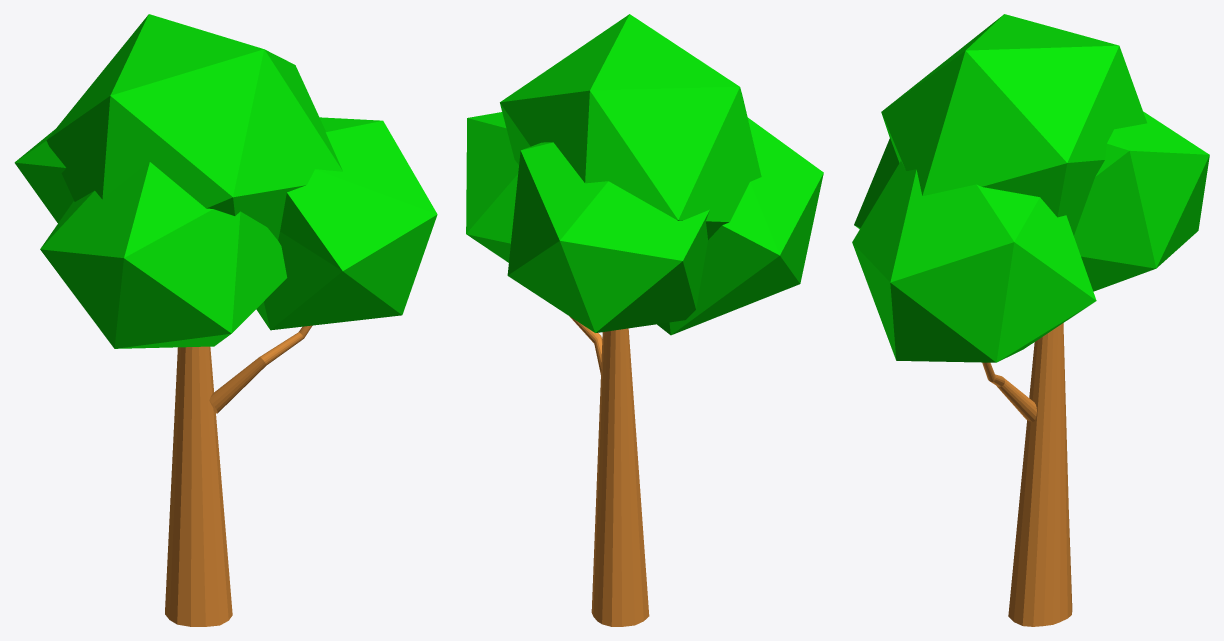
File: pohon2.4.fbx
3 renders of one model, left to right at view 1: azimuth 30°, elevation 25°; view 2: azimuth 150°, elevation 25°; view 3: azimuth 270°, elevation 25°, orthographic. The views are drawn at different scales.
Parts seen in each view (by area): view 1: Icosphere, Icosphere.003, Icosphere.002, Lingkaran, Icosphere.001, Lingkaran.001; view 2: Icosphere, Icosphere.001, Icosphere.003, Lingkaran, Icosphere.002; view 3: Icosphere, Icosphere.002, Icosphere.001, Lingkaran, Icosphere.003, Lingkaran.001.
Boxes of the visible parts, x1,y1,x2,y2 form: Icosphere: [46, 14, 342, 239]; Icosphere.003: [40, 162, 287, 348]; Icosphere.002: [256, 117, 437, 330]; Lingkaran: [165, 346, 232, 626]; Icosphere.001: [14, 129, 73, 222]; Lingkaran.001: [209, 325, 312, 413]; Icosphere: [500, 14, 761, 239]; Icosphere.001: [507, 142, 709, 332]; Icosphere.003: [657, 117, 823, 335]; Lingkaran: [591, 328, 649, 626]; Icosphere.002: [466, 112, 518, 262]; Icosphere: [881, 14, 1146, 235]; Icosphere.002: [852, 161, 1096, 362]; Icosphere.001: [1074, 111, 1209, 291]; Lingkaran: [1008, 323, 1072, 626]; Icosphere.003: [854, 138, 899, 229]; Lingkaran.001: [982, 362, 1036, 421].
Bounding box in the file's own units: 18.28 × 29.94 × 16.83.
